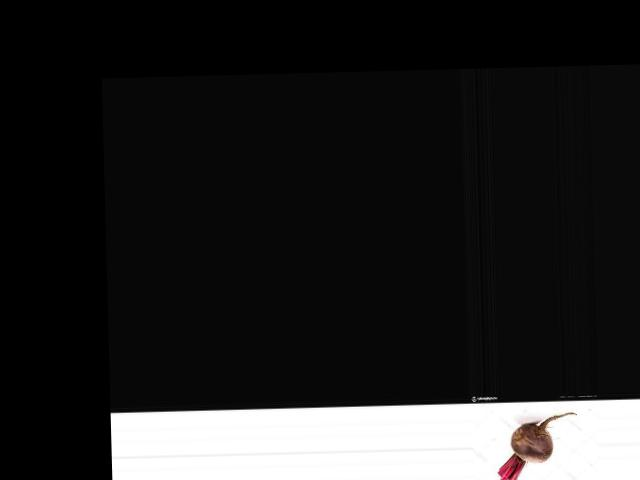beet: (497, 412, 579, 480)
